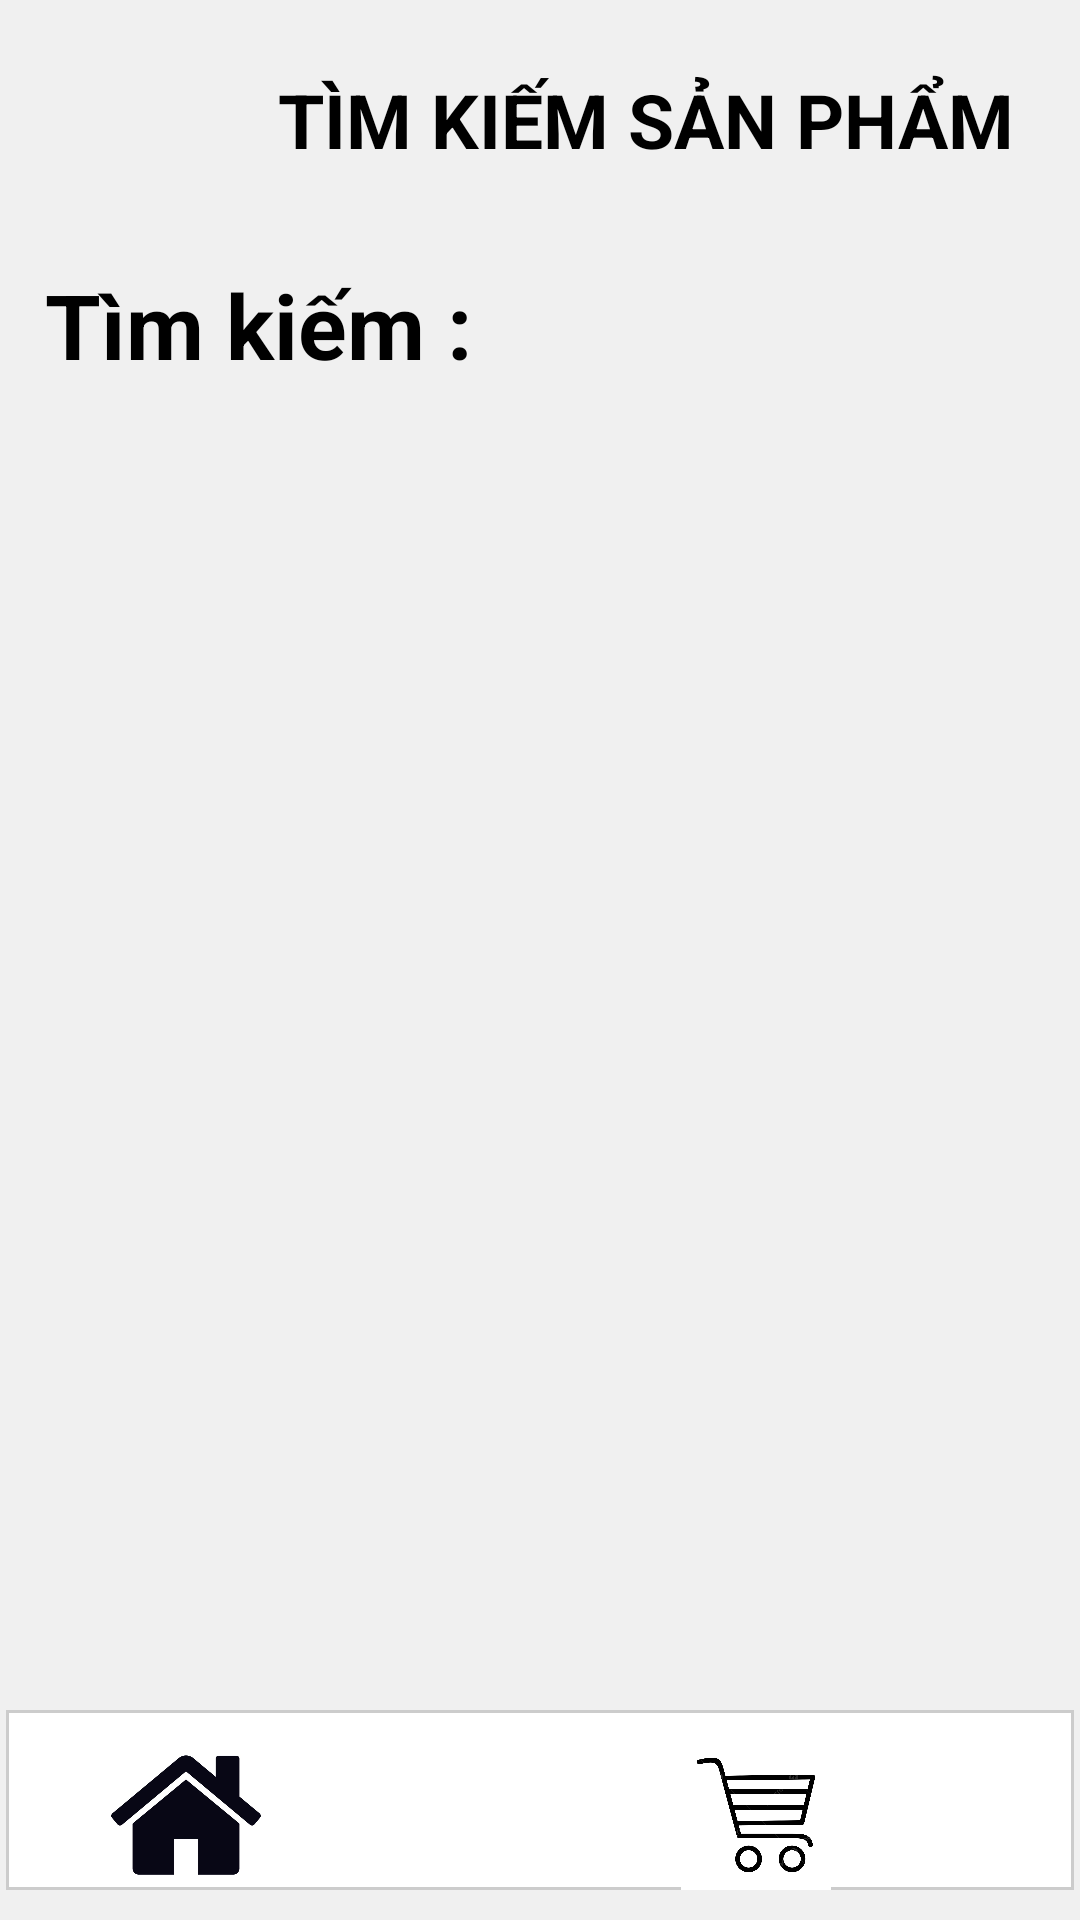

Icon bounding boxes for this 1080*1920 phone screenshot, format (x1,y1,x2,y2):
gio hang: (697,1758,815,1872)
home: (111,1755,261,1875)
